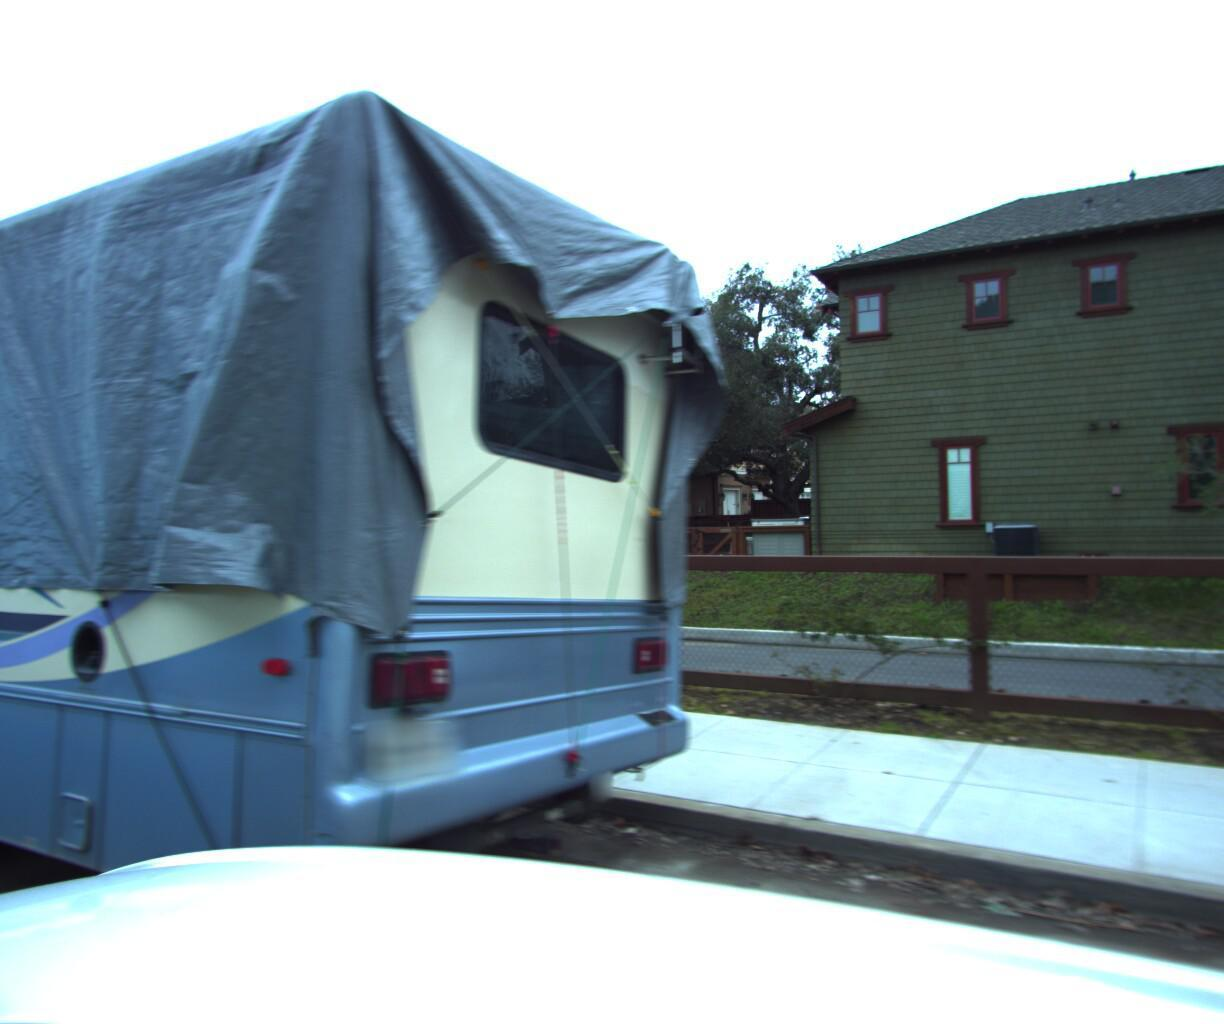other_vehicle: (0, 21, 702, 1024)
